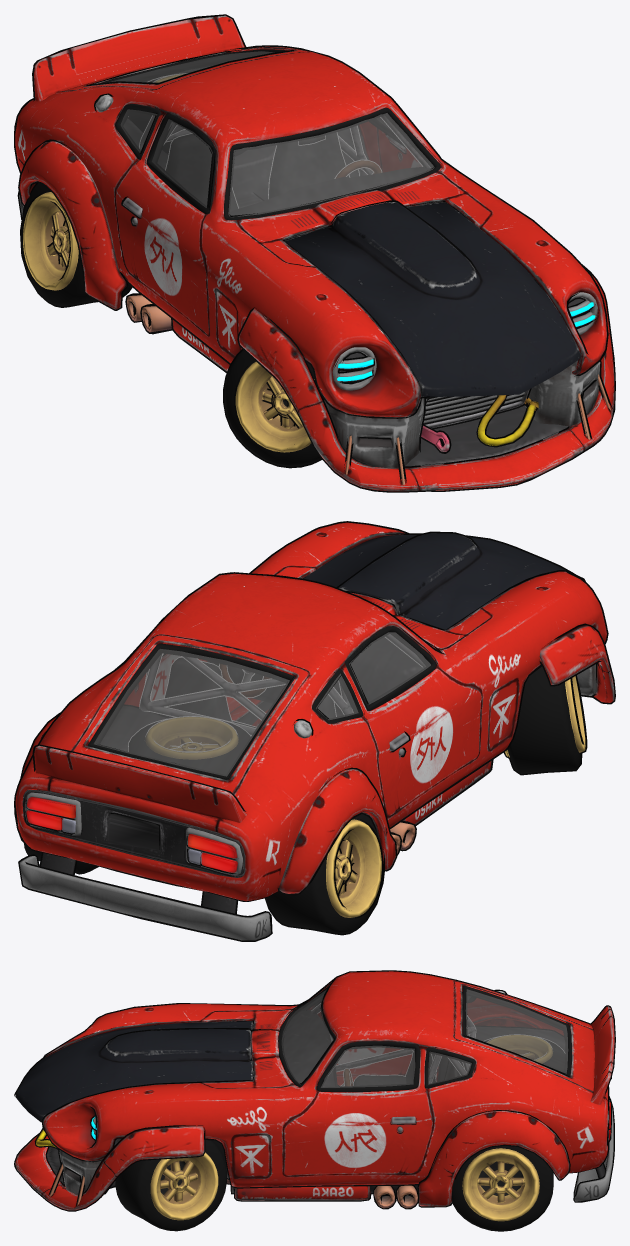
File: datsun-gaijin-240z.glb
The picture shows the model from 3 angles, top to bottom: view 1: azimuth 30°, elevation 25°; view 2: azimuth 150°, elevation 25°; view 3: azimuth 270°, elevation 25°; orthographic projection. The views are drawn at different scales.
Parts seen in each view (by area): view 1: body, glass, interior; view 2: body, glass, interior; view 3: body, glass, interior.
Part boxes in pixels (x1,y1,x2,y2): body: (14,14,615,492); glass: (111,51,434,217); interior: (129,73,430,211); body: (14,521,615,941); glass: (94,632,430,776); interior: (128,634,425,774); body: (14,970,615,1231); glass: (281,989,568,1087); interior: (311,1003,564,1086).
Bounding box in the file's own units: 2.13 × 1.39 × 4.19.
Materials: 4 (2 with a texture image).
